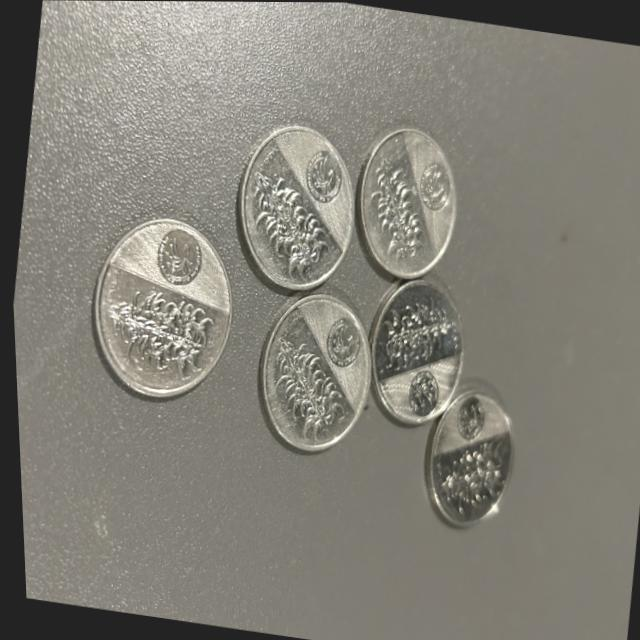5_New_Back: (252, 318, 354, 454), (102, 273, 217, 386), (233, 173, 337, 274), (356, 154, 430, 258)
